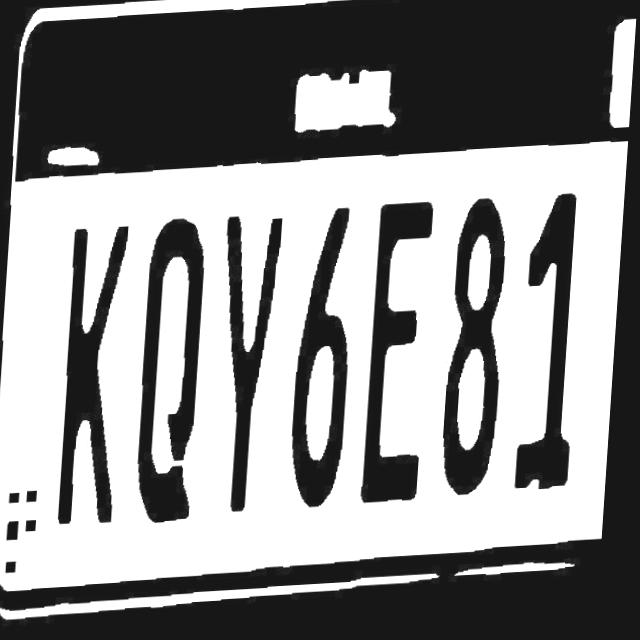1: (510, 184, 606, 512)
6: (293, 195, 376, 516)
8: (441, 195, 522, 510)
e: (362, 193, 455, 511)
k: (54, 217, 141, 543)
q: (133, 209, 219, 543)
y: (213, 192, 297, 521)
